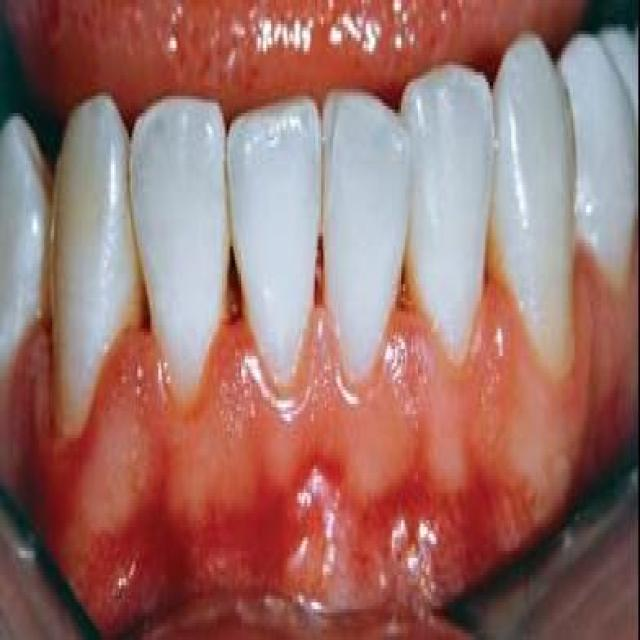Gingivitis: (85, 421, 527, 602)
